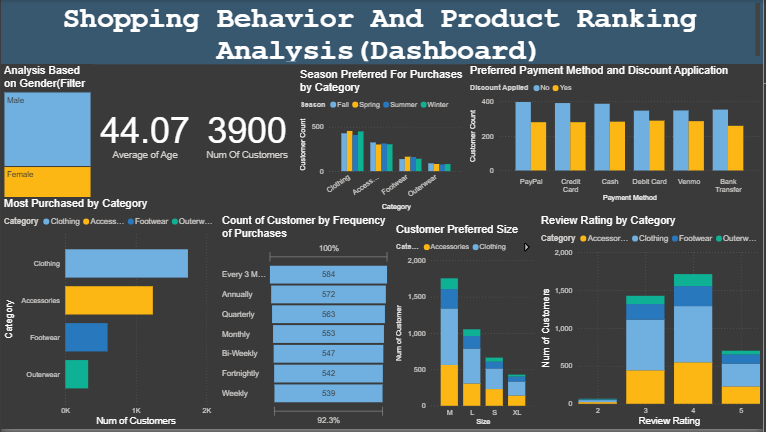

Layout of this report page (visuals, bound fields, positions):
{"tool":"powerbi","page":{"name":"Page 1","canvas":[1280,720],"ordinal":0},"visuals":[{"type":"card","fields":{"Values":["CountNonNull(in.Customer ID)"]},"box":[329.2,114.2,168,216.7],"z":0},{"type":"textbox","box":[0,0,1280,107.5],"z":1000},{"type":"treemap","title":"Analysis Based on Gender(Filter ","fields":{"Values":["Sum(in.Purchase Amount (USD))"],"Group":["in.Gender"]},"box":[0,107.5,156.2,236.9],"z":2000},{"type":"card","fields":{"Values":["Avg(in.Age)"]},"box":[156.2,110.9,171.3,223.4],"z":3000},{"type":"barChart","title":"Most Purchased by Category","fields":{"Category":["in.Category"],"Y":["CountNonNull(in.Customer ID)"],"Series":["in.Category"]},"box":[0,330.9,366.2,389.7],"z":4000},{"type":"columnChart","title":"Review Rating by Category","fields":{"Category":["in.Review Rating"],"Y":["CountNonNull(in.Item Purchased)"],"Series":["in.Category"]},"box":[902,359.5,378,361.2],"z":5000},{"type":"clusteredColumnChart","title":"Preferred Payment Method and Discount Application","fields":{"Y":["CountNonNull(in.Customer ID)"],"Category":["in.Payment Method"],"Series":["in.Discount Applied"]},"box":[782.8,107.5,497.2,236.9],"z":6000},{"type":"funnel","title":"Count of Customer by Frequency of Purchases","fields":{"Category":["in.Frequency of Purchases"],"Y":["CountNonNull(in.Customer ID)"]},"box":[366.2,359.5,292.3,361.2],"z":7000},{"type":"columnChart","title":"Customer Preferred Size","fields":{"Category":["in.Size"],"Y":["CountNonNull(in.Customer ID)"],"Series":["in.Category"]},"box":[658.5,374.6,243.6,346],"z":8000},{"type":"clusteredColumnChart","title":"Season Preferred For Purchases by Category","fields":{"Series":["in.Season"],"Category":["in.Category"],"Y":["CountNonNull(in.Customer ID)"]},"box":[497.2,114.2,283.9,245.2],"z":9000}]}

Visuals, with their boxes in screenshot pixels (x1, y1, x2, y2), scaled from the page's 1280x720 canvas onto the 766x432 screenshot:
card - CountNonNull(in.Customer ID): box=[197, 69, 298, 199]
textbox: box=[0, 0, 765, 64]
"Analysis Based on Gender(Filter " treemap: box=[0, 64, 93, 207]
card - Avg(in.Age): box=[93, 67, 196, 201]
"Most Purchased by Category" barChart: box=[0, 199, 219, 431]
"Review Rating by Category" columnChart: box=[540, 216, 765, 431]
"Preferred Payment Method and Discount Application" clusteredColumnChart: box=[468, 64, 765, 207]
"Count of Customer by Frequency of Purchases" funnel: box=[219, 216, 394, 431]
"Customer Preferred Size" columnChart: box=[394, 225, 540, 431]
"Season Preferred For Purchases by Category" clusteredColumnChart: box=[298, 69, 467, 216]
